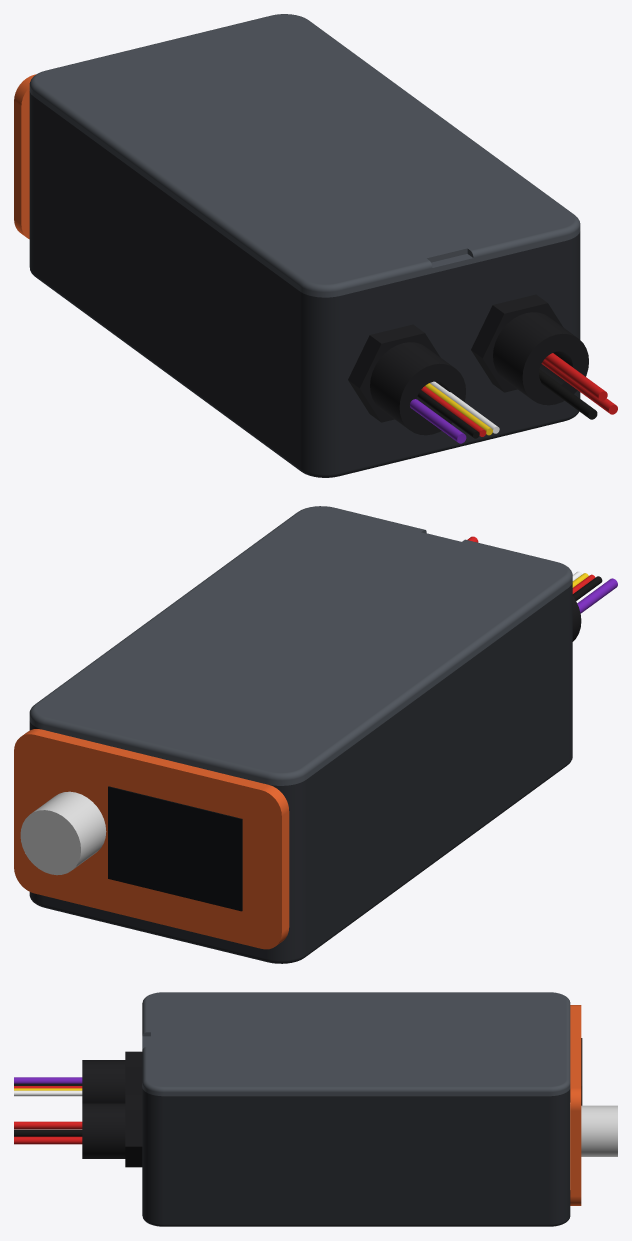
The model's file is wrangler_air_cust.glb.
The picture shows the model from 3 angles, top to bottom: view 1: azimuth 30°, elevation 25°; view 2: azimuth 150°, elevation 25°; view 3: azimuth 270°, elevation 25°; orthographic projection. The views are drawn at different scales.
Parts seen in each view (by area): view 1: box_cust_lid, box_cust_body, gland_M12_power, gland_M12_sensor_ARB, bezel, 12V_to_DinMeter_plus, GND_to_DinMeter_minus, relay_NO_to_ARB; view 2: box_cust_lid, box_cust_body, bezel, screen, knob; view 3: box_cust_body, box_cust_lid, gland_M12_power, gland_M12_sensor_ARB, bezel, knob, 12V_to_DinMeter_plus, 12V_to_relay_COM, GND_to_DinMeter_minus, relay_NO_to_ARB, W2_grove_PORT_A_to_sensor_white.
Boxes of the visible parts, x1=… form: box_cust_lid: x1=29, y1=14, x2=580, y2=297; box_cust_body: x1=29, y1=91, x2=580, y2=477; gland_M12_power: x1=471, y1=294, x2=588, y2=405; gland_M12_sensor_ARB: x1=348, y1=324, x2=465, y2=435; bezel: x1=14, y1=74, x2=36, y2=239; 12V_to_DinMeter_plus: x1=544, y1=353, x2=607, y2=400; GND_to_DinMeter_minus: x1=539, y1=369, x2=597, y2=419; relay_NO_to_ARB: x1=410, y1=399, x2=466, y2=443; box_cust_lid: x1=29, y1=506, x2=572, y2=785; box_cust_body: x1=29, y1=583, x2=572, y2=963; bezel: x1=14, y1=729, x2=289, y2=949; screen: x1=108, y1=786, x2=242, y2=911; knob: x1=20, y1=791, x2=106, y2=875; box_cust_body: x1=142, y1=1088, x2=570, y2=1226; box_cust_lid: x1=142, y1=992, x2=570, y2=1096; gland_M12_power: x1=82, y1=1095, x2=142, y2=1167; gland_M12_sensor_ARB: x1=82, y1=1051, x2=142, y2=1103; bezel: x1=570, y1=1005, x2=581, y2=1205; knob: x1=581, y1=1105, x2=617, y2=1156; 12V_to_DinMeter_plus: x1=14, y1=1121, x2=82, y2=1129; 12V_to_relay_COM: x1=14, y1=1136, x2=82, y2=1144; GND_to_DinMeter_minus: x1=14, y1=1129, x2=82, y2=1136; relay_NO_to_ARB: x1=14, y1=1077, x2=82, y2=1083; W2_grove_PORT_A_to_sensor_white: x1=14, y1=1090, x2=82, y2=1096.
Bounding box in the file's own units: 54 × 36 × 141.
